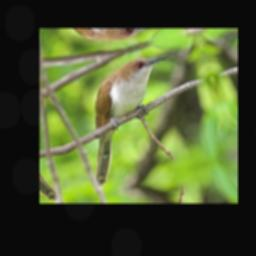Cuckoo: (63, 49, 200, 187)
